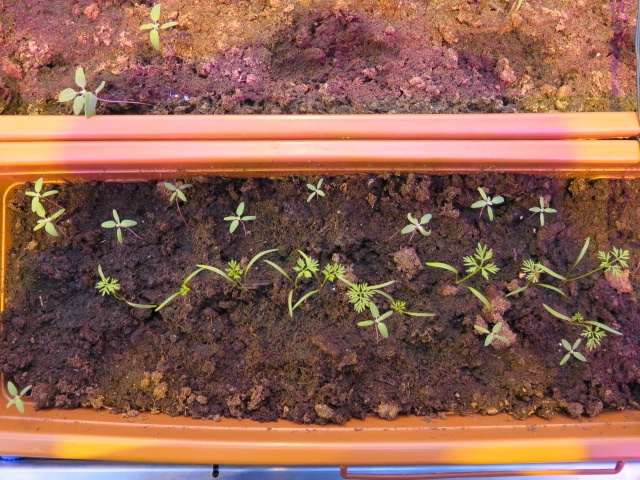weed: (137, 1, 181, 53), (99, 204, 141, 244), (468, 183, 506, 224), (221, 197, 260, 236), (4, 377, 36, 416), (525, 194, 559, 229), (397, 210, 435, 240), (163, 180, 195, 206), (302, 175, 328, 206)
